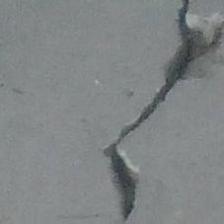Crack: (71, 0, 224, 224)
